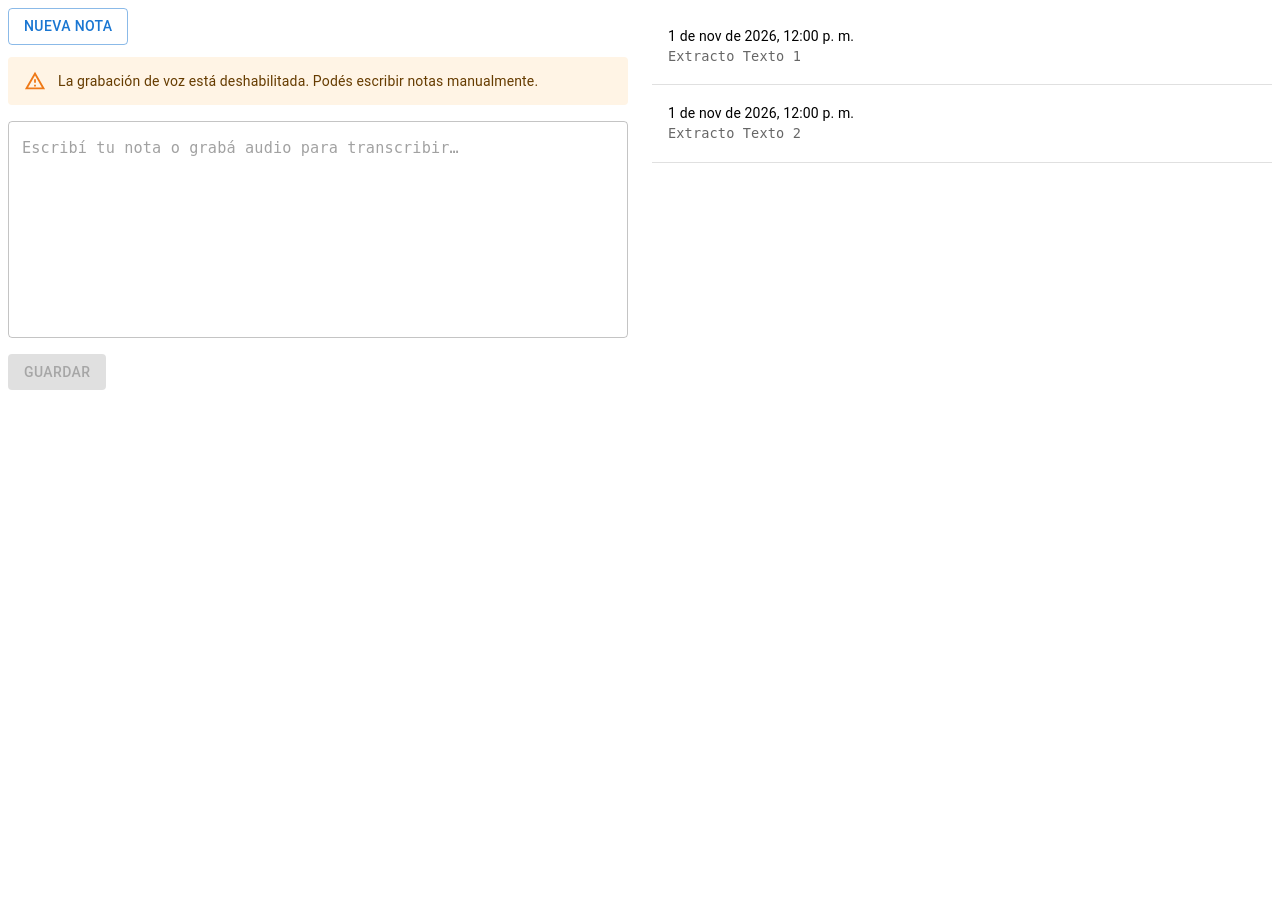
Scenario: VoicePage › cambios sin guardar al cambiar de nota (B-2) › Guardar y continuar con error de servidor conserva borrador y nota actual
Click the text "Extracto Texto 1" at point(734, 56), box x1=668 y1=48 x2=801 y2=64
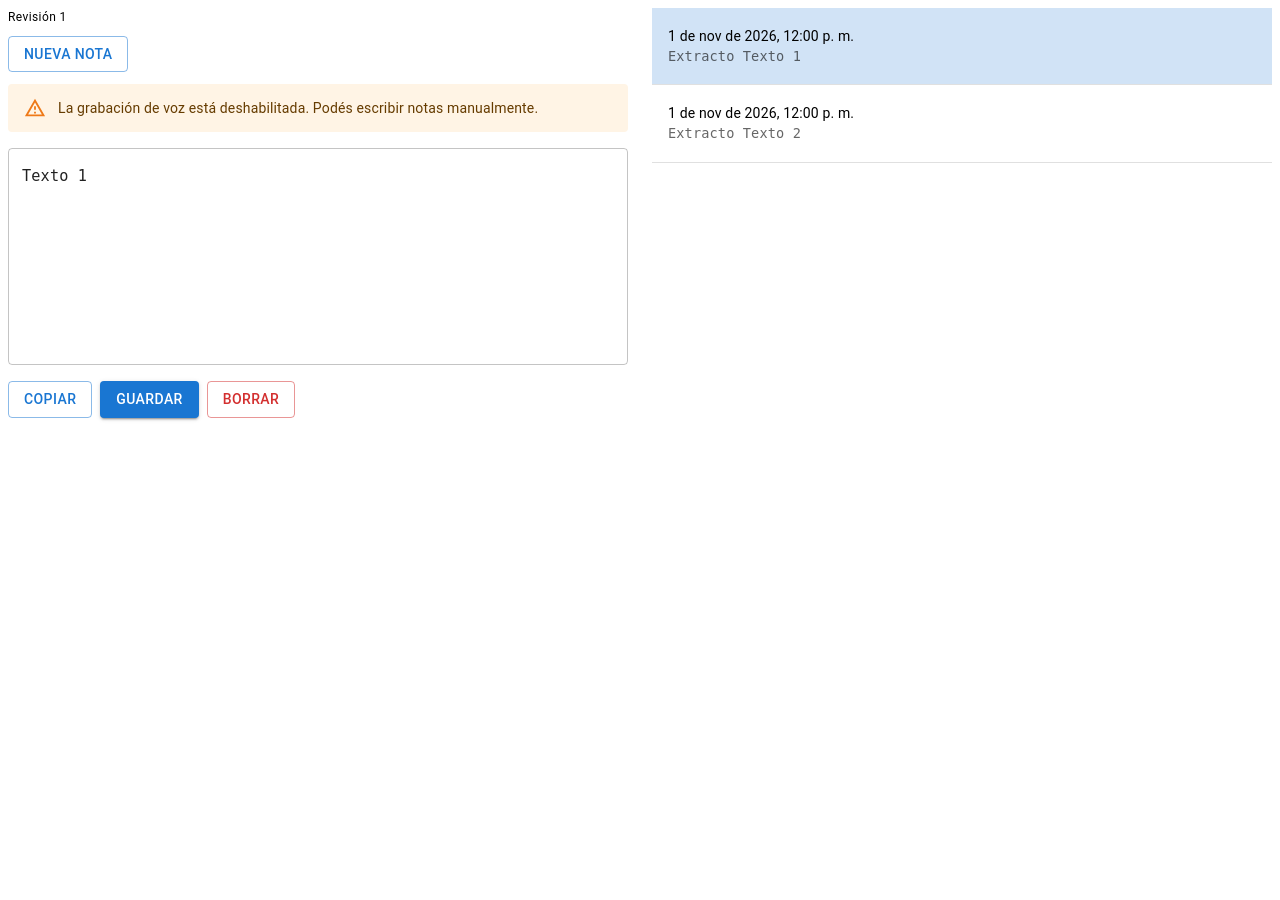
Expected: the text box named "Texto de la nota" holds "Texto 1"
Type " editado" into the text box named "Texto de la nota" at point(318, 257), box x1=22 y1=165 x2=614 y2=349
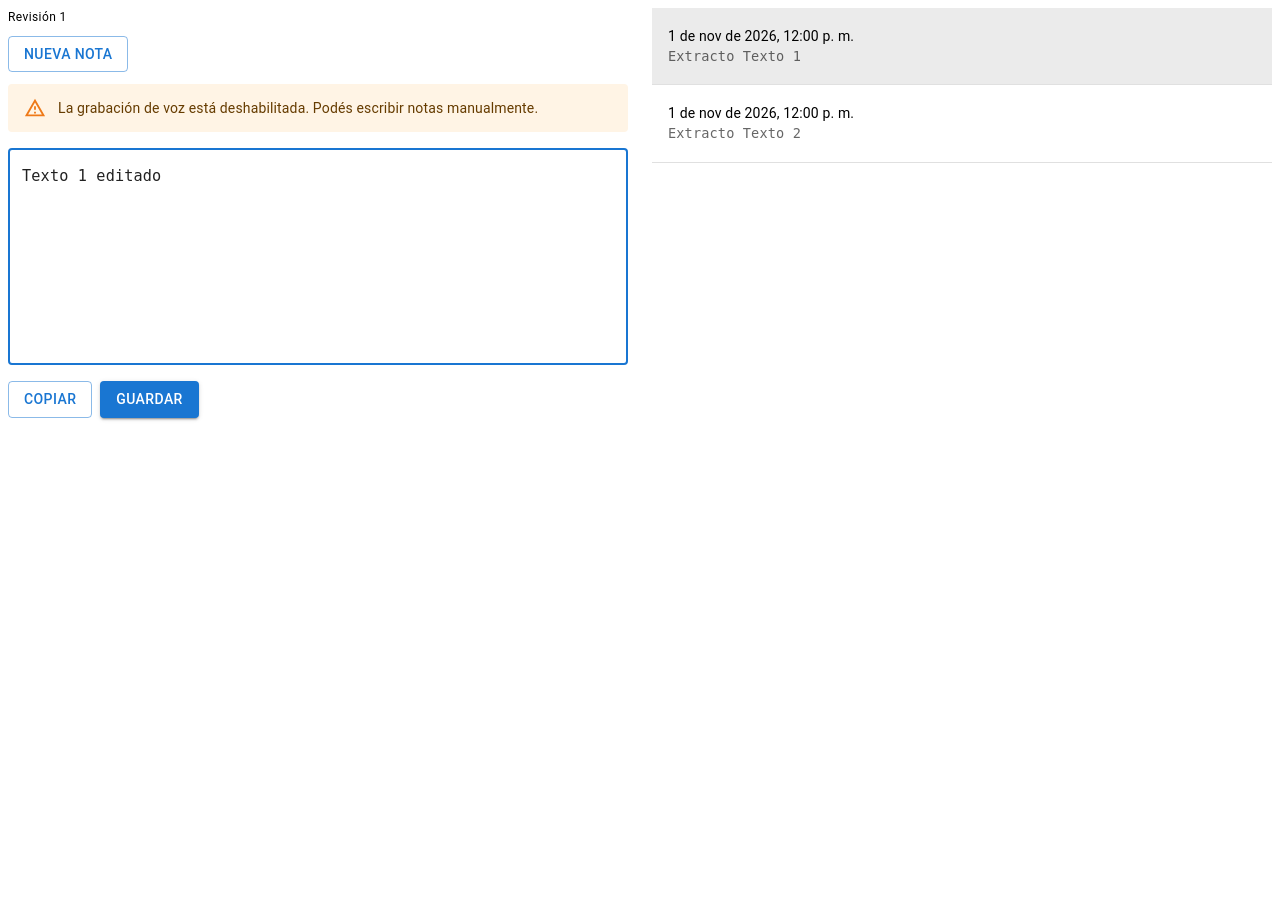
Expected: the text box named "Texto de la nota" holds "Texto 1 editado", x1=22 y1=165 x2=614 y2=349
Click the text "Extracto Texto 2" at point(734, 133), box x1=668 y1=125 x2=801 y2=141
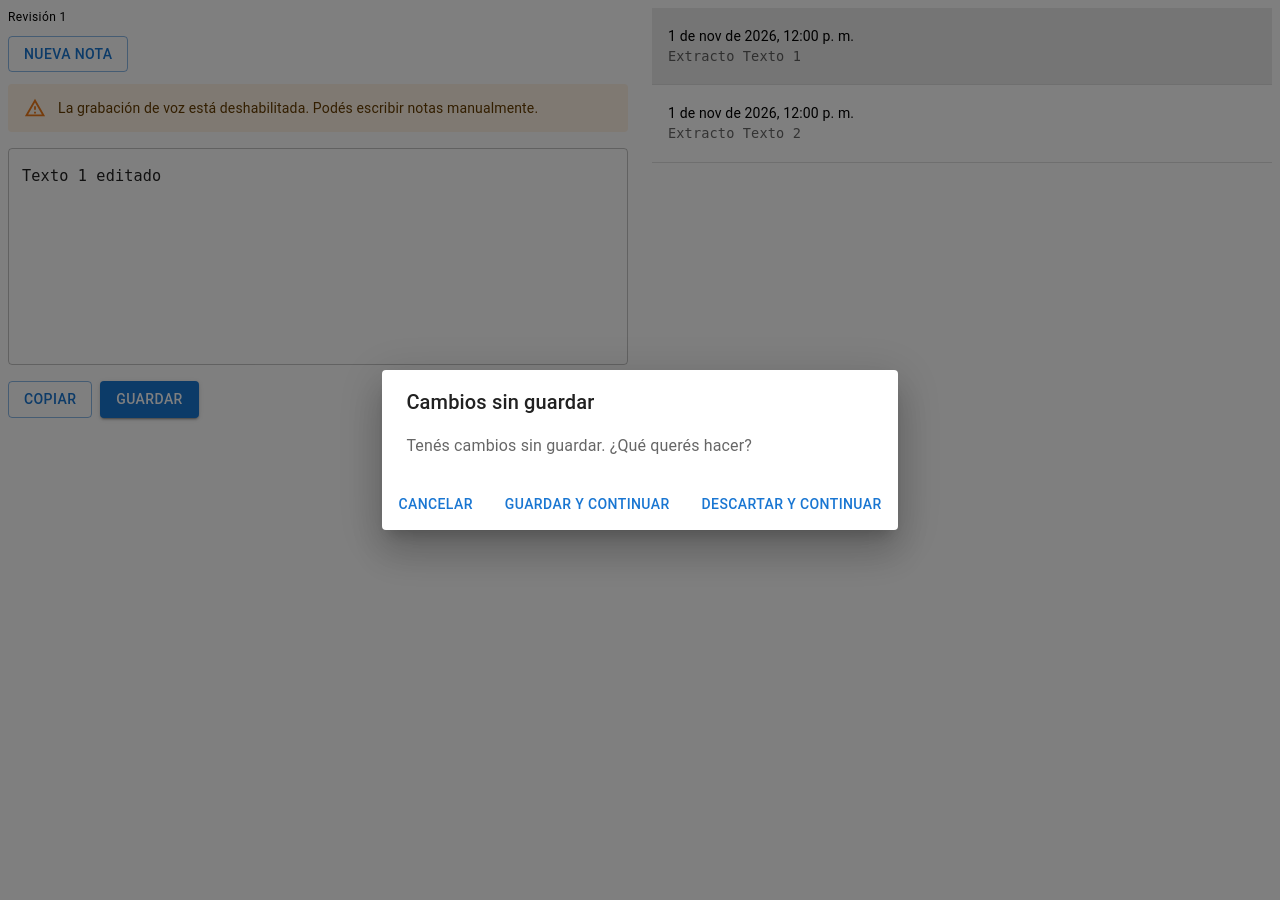
Click the button "Guardar y continuar" at point(587, 504), box x1=497 y1=486 x2=678 y2=522
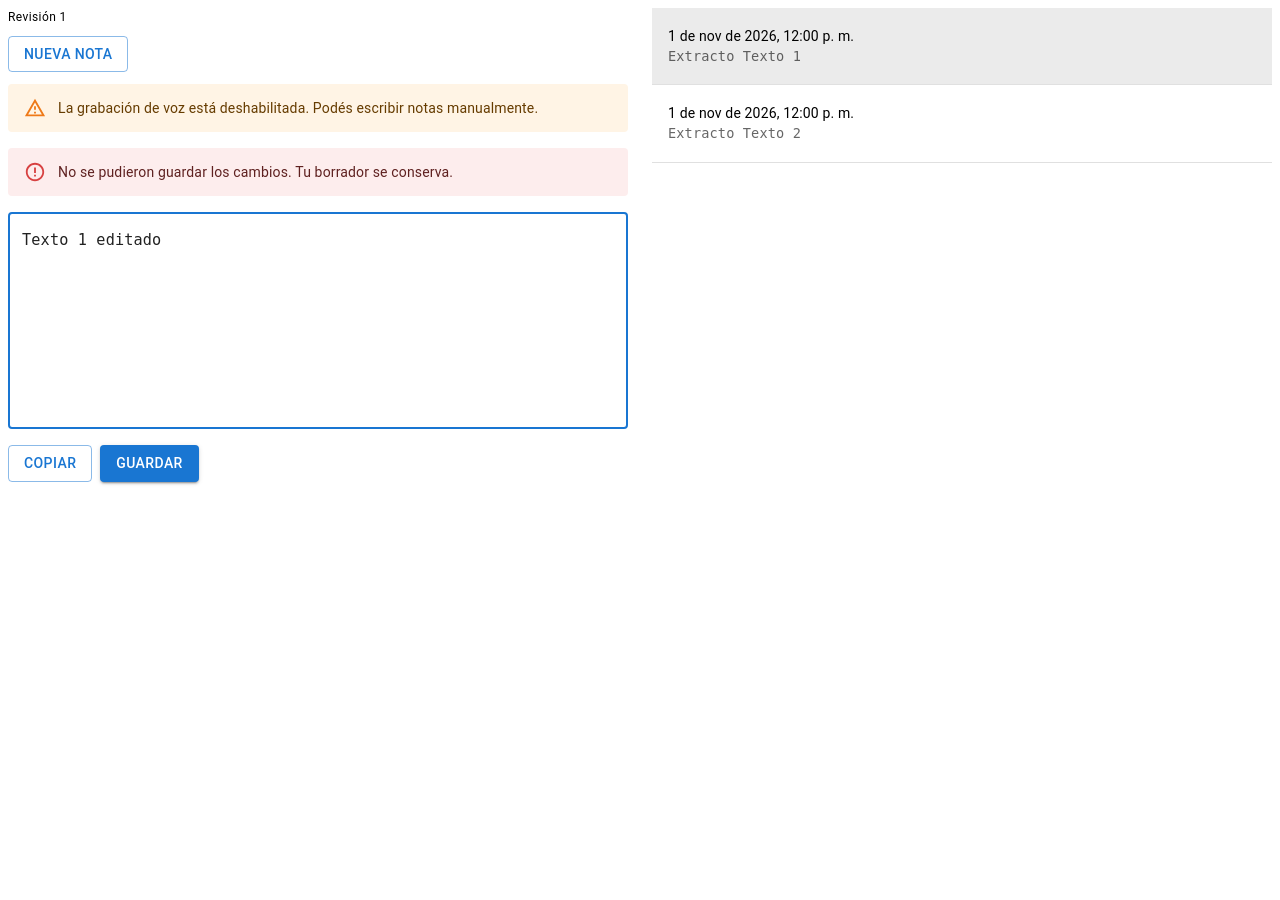
Expected: the text box named "Texto de la nota" holds "Texto 1 editado", x1=22 y1=229 x2=614 y2=413
Expected: the text "No se pudieron guardar los cambios. Tu borrador se conserva." is shown, x1=58 y1=164 x2=453 y2=180
Expected: the dialog is gone
